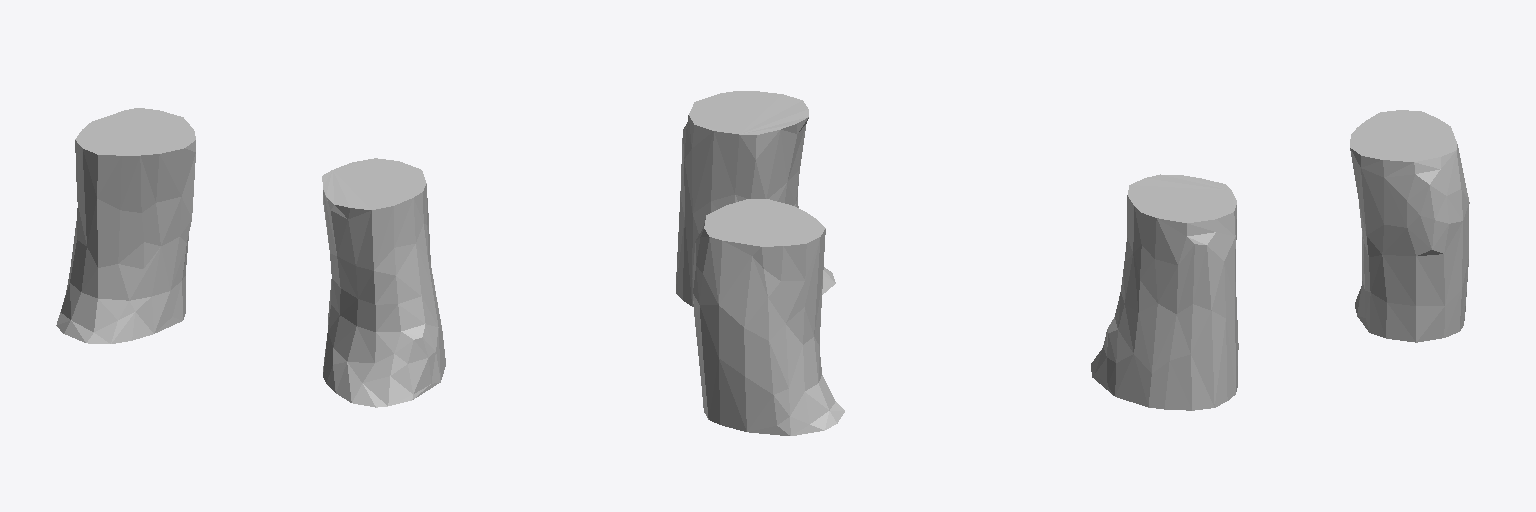
The picture shows the model from 3 angles: view 1: azimuth 30°, elevation 25°; view 2: azimuth 150°, elevation 25°; view 3: azimuth 270°, elevation 25°; orthographic projection.
Parts seen in each view (by area): view 1: low.017_Fotogrametria_MarioGomes_V01_Model_2.018; view 2: low.017_Fotogrametria_MarioGomes_V01_Model_2.018; view 3: low.017_Fotogrametria_MarioGomes_V01_Model_2.018.
Part boxes in pixels (left/top/right/bottom): low.017_Fotogrametria_MarioGomes_V01_Model_2.018: left=56, top=108, right=445, bottom=407; low.017_Fotogrametria_MarioGomes_V01_Model_2.018: left=676, top=91, right=844, bottom=435; low.017_Fotogrametria_MarioGomes_V01_Model_2.018: left=1091, top=110, right=1469, bottom=410.
Bounding box in the file's own units: 0.3037 × 0.2018 × 0.381.